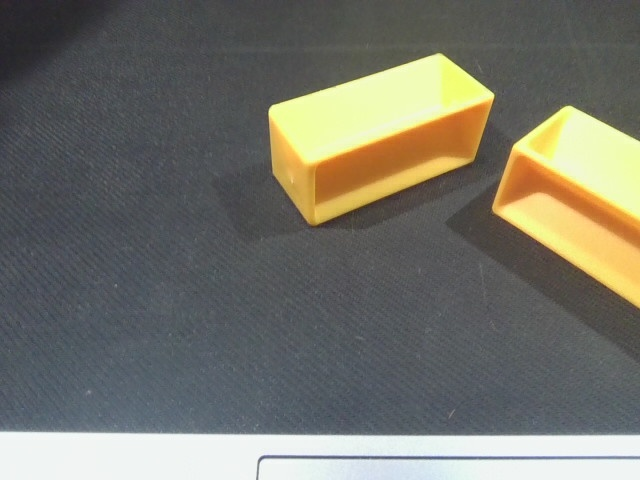YellowSample: (266, 51, 492, 227), (490, 102, 640, 311)
